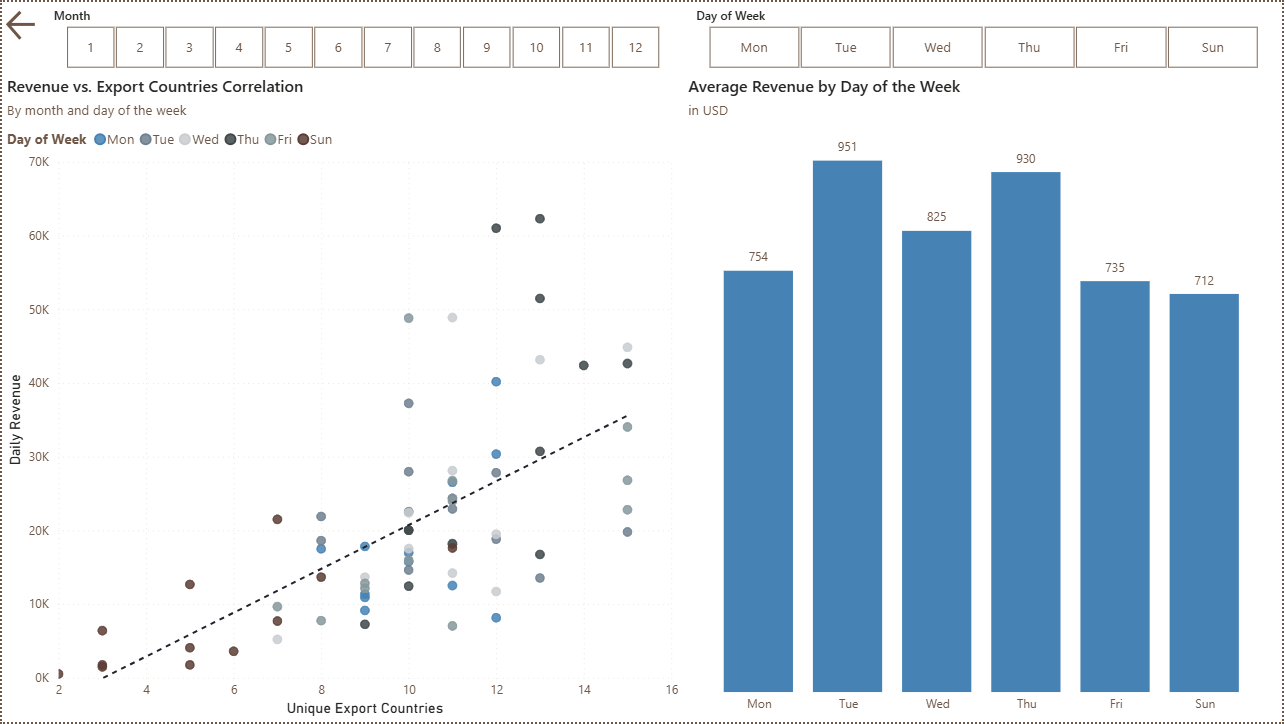

What the dashboard file says about the page in this screenshot:
{"tool":"powerbi","page":{"name":"Аналитика и корреляция","canvas":[1280,720],"ordinal":2},"visuals":[{"type":"scatterChart","title":"Revenue vs. Export Countries Correlation","fields":{"Category":["Final_OnlineRetail.InvoiceDate.Изменение.Иерархия дат.Месяц","Final_OnlineRetail.InvoiceDate.Изменение.Иерархия дат.День"],"X":["Final_OnlineRetail.Unique_Export_Countries"],"Y":["Final_OnlineRetail.Daily_Revenue_(Cross)"],"Series":["Final_OnlineRetail.Day_of_Week_Name"]},"box":[0,72.9,681.4,647.1],"z":0},{"type":"clusteredColumnChart","title":"Average Revenue by Day of the Week","fields":{"Y":["Final_Online Retail.Avg_Revenue_Per_Day_of_Wee_2"],"Category":["Final_OnlineRetail.Day_of_Week_Name"]},"box":[681.4,72.9,598.6,647.1],"z":1000},{"type":"slicer","fields":{"Values":["Final_Online Retail.Месяц"]},"box":[38.8,0,642.5,72.5],"z":2000},{"type":"slicer","fields":{"Values":["Final_OnlineRetail.Day_of_Week_Name"]},"box":[681.4,0,598.6,72.9],"z":3000},{"type":"actionButton","box":[0,0,38.8,46.2],"z":4000}]}

Visuals, with their boxes in screenshot pixels (x1, y1, x2, y2), scaled from the page's 1280x720 canvas onto the 1285x724 screenshot:
"Revenue vs. Export Countries Correlation" scatterChart: (left=0, top=73, right=684, bottom=723)
"Average Revenue by Day of the Week" clusteredColumnChart: (left=684, top=73, right=1284, bottom=723)
slicer - Final_Online Retail.Месяц: (left=39, top=0, right=684, bottom=73)
slicer - Final_OnlineRetail.Day_of_Week_Name: (left=684, top=0, right=1284, bottom=73)
actionButton: (left=0, top=0, right=39, bottom=46)
